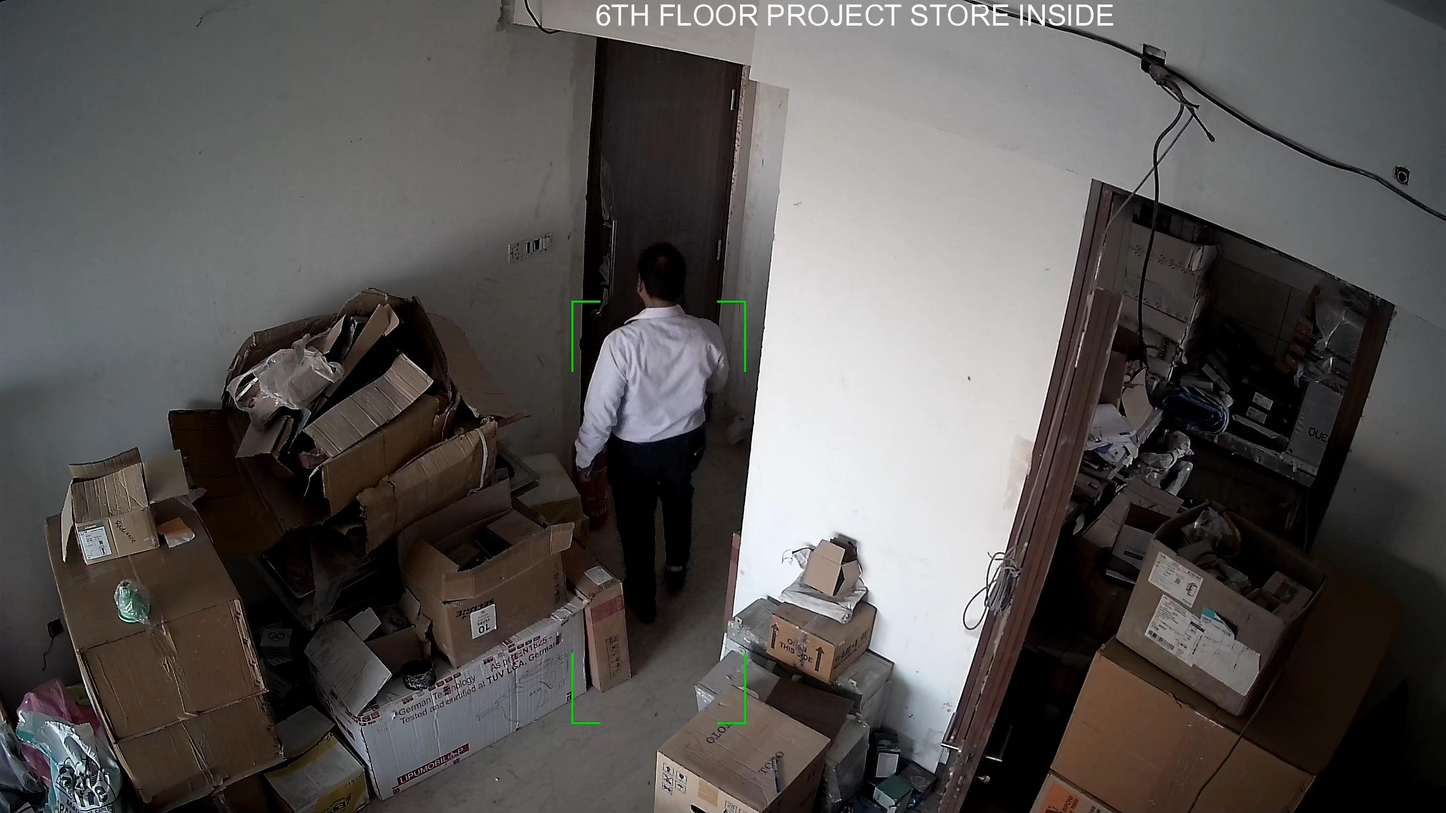Door-Close: (564, 34, 757, 484)
